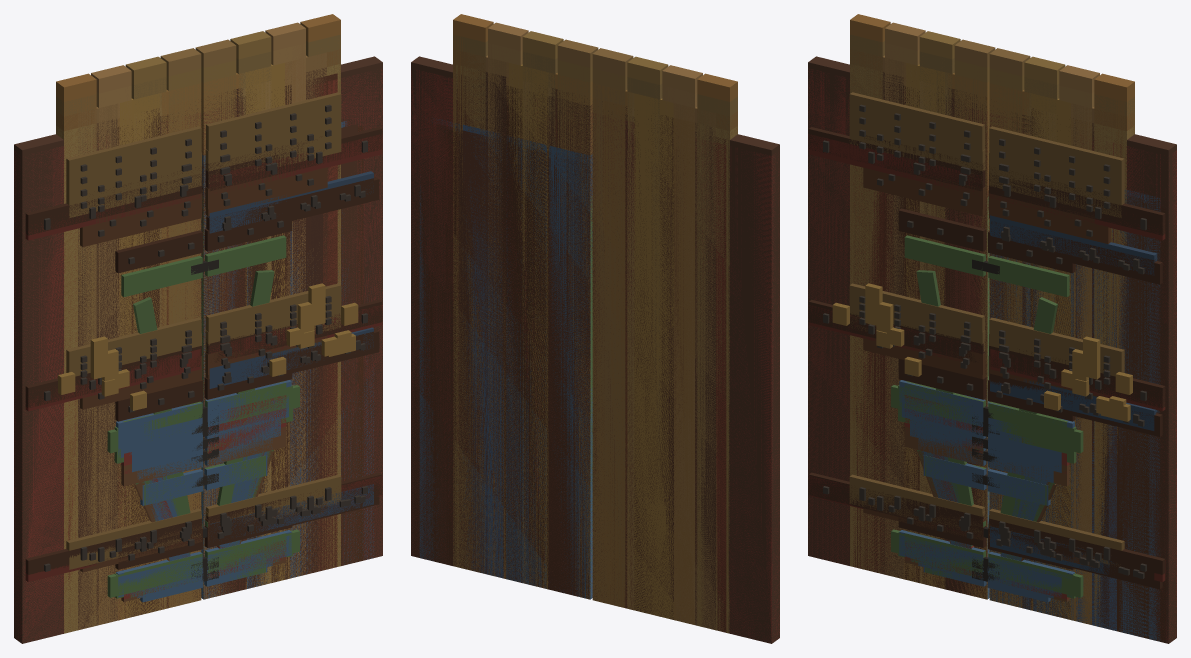
File: common.glb
3 renders of one model, left to right at view 1: azimuth 30°, elevation 25°; view 2: azimuth 150°, elevation 25°; view 3: azimuth 330°, elevation 25°, orthographic.
Parts seen in each view (by area): view 1: door_dark_65_169_M, door_dark_65_169, door_bronze_45_177_M, door_red_65_167_M, door_red_65_167, door_bronze_50_187_M, door_bronze_50_172_M, door_dark_58_149, door_bronze_50_182_M, door_bronze_50_182, door_bronze_50_187, door_blue_62_152 (+45 smaller); view 2: door_dark_64_149, door_dark_65_169, door_bronze_45_177_M, door_blue_62_152, door_dark_65_169_M, door_bronze_50_172_M, door_bronze_50_187_M, door_red_65_167, door_bronze_45_177, door_bronze_50_177_M, door_red_65_167_M, door_dark_62_150 (+17 smaller); view 3: door_dark_65_169_M, door_red_65_167_M, door_blue_62_152, door_dark_65_169, door_bronze_50_182_M, door_bronze_50_187, door_bronze_45_177_M, door_bronze_50_172, door_dark_62_150, door_bronze_50_182, door_bronze_50_172_M, door_bronze_50_187_M (+43 smaller).
Part boxes in pixels (<box>): door_dark_65_169_M: <box>14,111,201,643</box>; door_dark_65_169: <box>205,56,382,596</box>; door_bronze_45_177_M: <box>78,83,201,630</box>; door_red_65_167_M: <box>14,113,201,642</box>; door_red_65_167: <box>201,69,382,595</box>; door_bronze_50_187_M: <box>56,48,201,631</box>; door_bronze_50_172_M: <box>56,99,201,633</box>; door_dark_58_149: <box>201,125,363,595</box>; door_bronze_50_182_M: <box>56,68,201,632</box>; door_bronze_50_182: <box>201,34,341,595</box>; door_bronze_50_187: <box>195,14,341,592</box>; door_blue_62_152: <box>201,121,374,599</box>; door_dark_64_149: <box>414,128,590,598</box>; door_dark_65_169: <box>411,56,590,597</box>; door_bronze_45_177_M: <box>592,83,715,630</box>; door_blue_62_152: <box>419,117,592,599</box>; door_dark_65_169_M: <box>593,111,779,643</box>; door_bronze_50_172_M: <box>592,98,737,633</box>; door_bronze_50_187_M: <box>592,48,737,622</box>; door_red_65_167: <box>411,70,592,594</box>; door_bronze_45_177: <box>467,53,592,598</box>; door_bronze_50_177_M: <box>592,84,737,633</box>; door_red_65_167_M: <box>592,113,779,643</box>; door_dark_62_150: <box>419,130,589,597</box>; door_dark_65_169_M: <box>808,56,986,597</box>; door_red_65_167_M: <box>808,68,989,598</box>; door_blue_62_152: <box>989,189,1160,641</box>; door_dark_65_169: <box>990,113,1176,643</box>; door_bronze_50_182_M: <box>849,34,989,598</box>; door_bronze_50_187: <box>989,48,1134,623</box>; door_bronze_45_177_M: <box>863,52,989,599</box>; door_bronze_50_172: <box>989,99,1134,625</box>; door_dark_62_150: <box>990,196,1160,640</box>; door_bronze_50_182: <box>989,68,1134,623</box>; door_bronze_50_172_M: <box>849,64,988,599</box>; door_bronze_50_187_M: <box>849,14,995,596</box>.
Size of the model in its own units: 1.29 by 1.87 by 0.095.
Materials: 2 (2 with a texture image).
